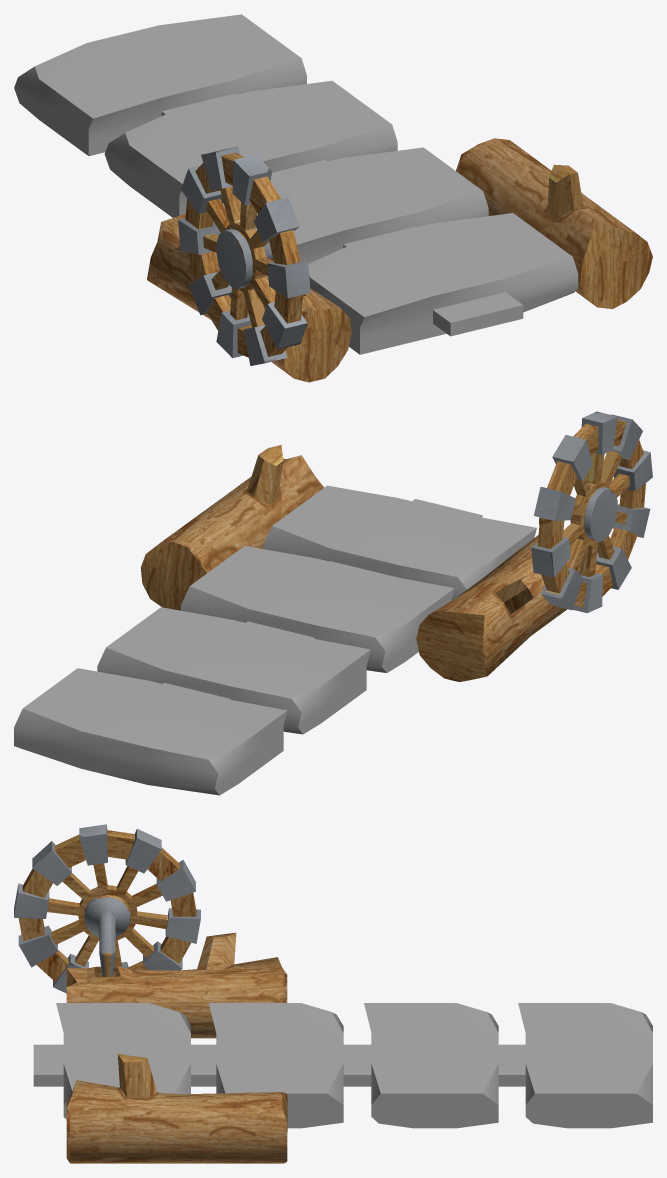
The model's file is Woolpy_bruecke_zu.fbx.
3 renders of one model, top to bottom at view 1: azimuth 30°, elevation 25°; view 2: azimuth 150°, elevation 25°; view 3: azimuth 270°, elevation 25°, orthographic. The views are drawn at different scales.
Parts seen in each view (by area): view 1: polySurface9, polySurface17, polySurface12, polySurface11, polySurface15, polySurface10; view 2: polySurface17, polySurface12, polySurface11, polySurface10, polySurface9, polySurface15; view 3: polySurface17, polySurface11, polySurface12, polySurface15, polySurface10, polySurface9.
Part boxes in pixels (x1=…): polySurface9: x1=308, y1=213, x2=578, y2=354; polySurface17: x1=147, y1=138, x2=652, y2=382; polySurface12: x1=14, y1=14, x2=306, y2=155; polySurface11: x1=104, y1=80, x2=397, y2=217; polySurface15: x1=178, y1=146, x2=310, y2=365; polySurface10: x1=223, y1=147, x2=488, y2=263; polySurface17: x1=140, y1=445, x2=617, y2=681; polySurface12: x1=14, y1=668, x2=287, y2=795; polySurface11: x1=97, y1=607, x2=370, y2=734; polySurface10: x1=181, y1=546, x2=454, y2=672; polySurface9: x1=263, y1=485, x2=536, y2=600; polySurface15: x1=531, y1=411, x2=652, y2=613; polySurface17: x1=66, y1=894, x2=287, y2=1163; polySurface11: x1=343, y1=1003, x2=498, y2=1128; polySurface12: x1=498, y1=1003, x2=652, y2=1128; polySurface15: x1=14, y1=824, x2=200, y2=993; polySurface10: x1=191, y1=1003, x2=343, y2=1128; polySurface9: x1=33, y1=1003, x2=190, y2=1118.
Size of the model in its own units: 51.27 by 26.92 by 83.66.
